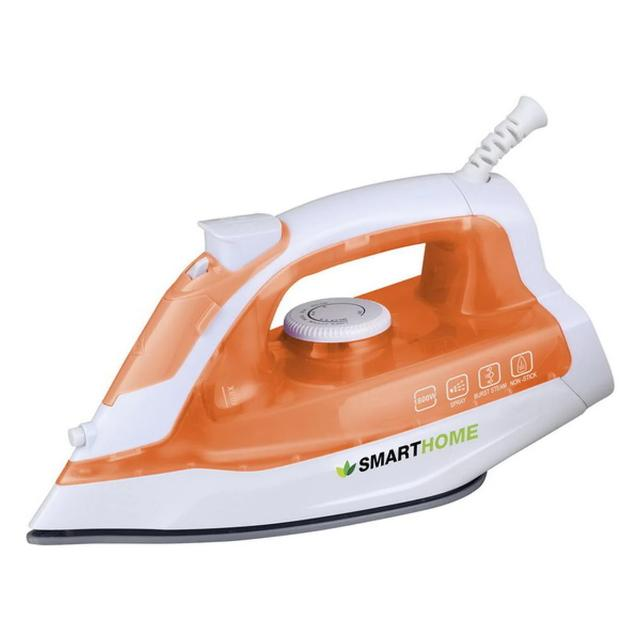Clothes-Iron: (25, 160, 619, 552)
